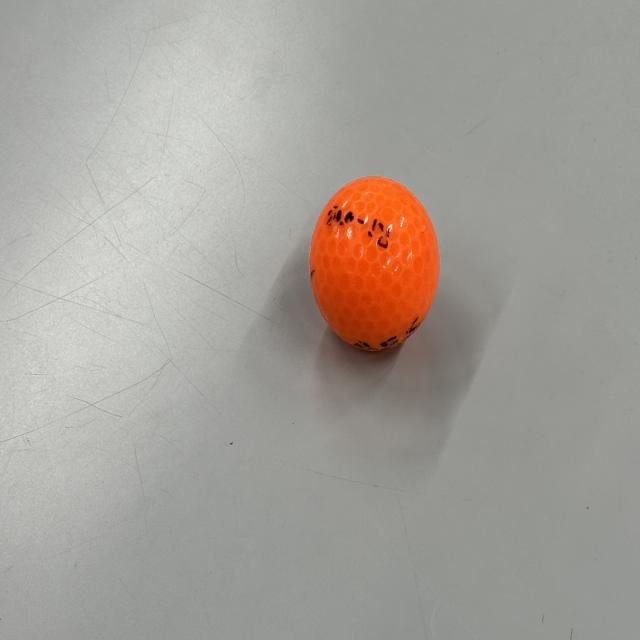ball: (308, 172, 446, 364)
